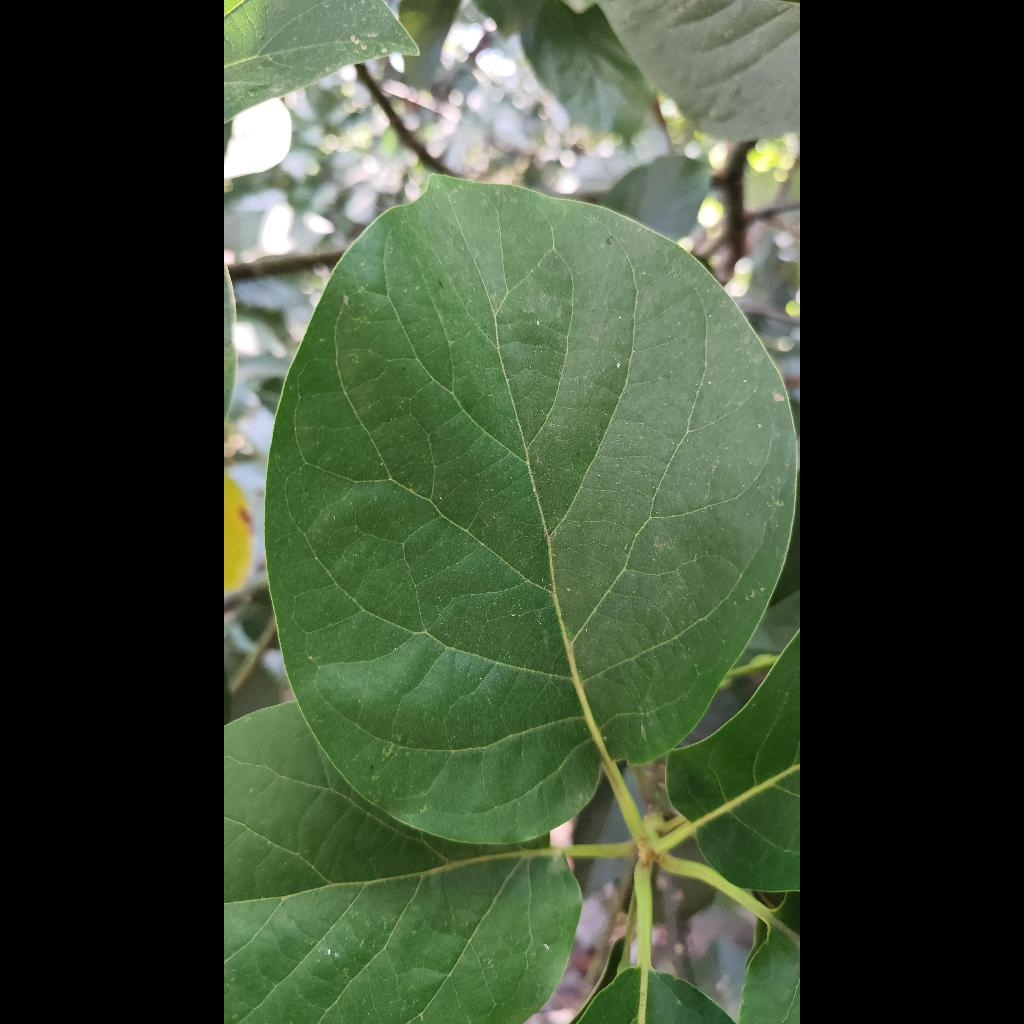hoja_sana: (267, 178, 796, 841), (224, 704, 581, 1024)
